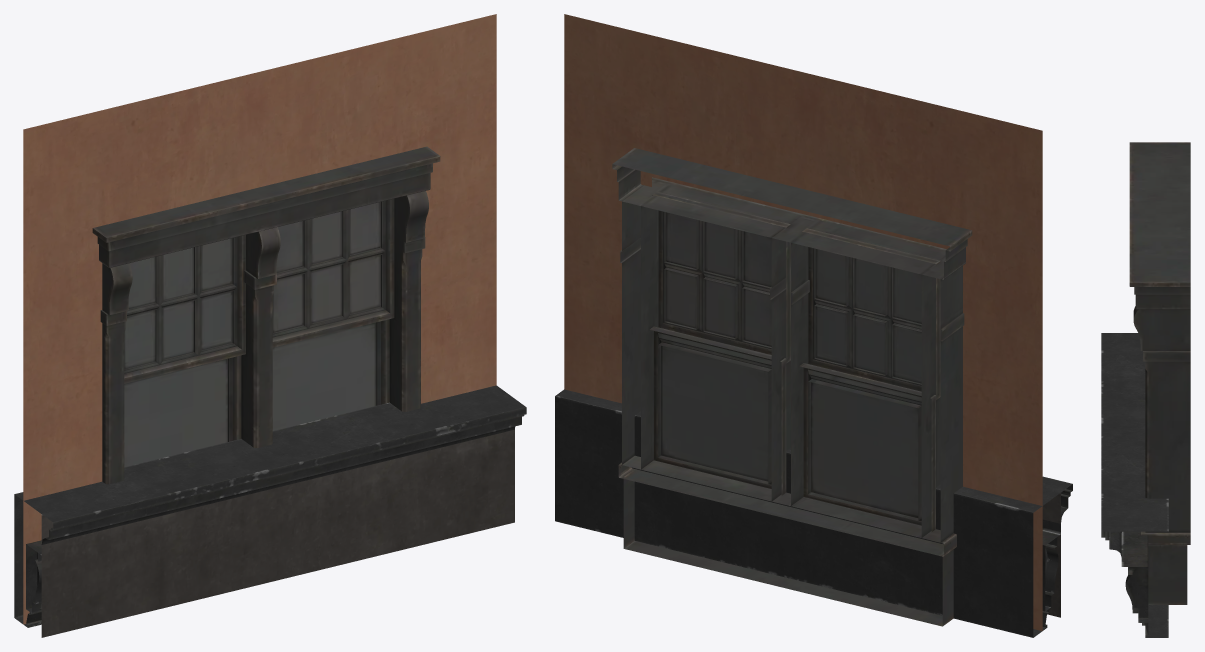
Rendered from facade.glb.
3 views of the same model, side by side, from view 1: azimuth 30°, elevation 25°; view 2: azimuth 150°, elevation 25°; view 3: azimuth 270°, elevation 25° (orthographic). The views are drawn at different scales.
Visible parts, largest first — view 1: wall_window_centered_large_01, window_centered_large_01, base_standard_01, crown_standard_standard_01; view 2: window_centered_large_01, wall_window_centered_large_01, crown_standard_standard_01, base_standard_01; view 3: window_centered_large_01, crown_standard_standard_01.
Part boxes in pixels (x1=…): wall_window_centered_large_01: x1=23, y1=14, x2=496, y2=624; window_centered_large_01: x1=92, y1=146, x2=440, y2=484; base_standard_01: x1=41, y1=429, x2=514, y2=637; crown_standard_standard_01: x1=14, y1=385, x2=526, y2=627; window_centered_large_01: x1=612, y1=148, x2=972, y2=626; wall_window_centered_large_01: x1=564, y1=14, x2=1042, y2=630; crown_standard_standard_01: x1=555, y1=389, x2=1072, y2=637; base_standard_01: x1=1042, y1=493, x2=1060, y2=617; window_centered_large_01: x1=1129, y1=142, x2=1190, y2=604; crown_standard_standard_01: x1=1101, y1=333, x2=1168, y2=637.
Bounding box in the file's own units: 3 × 3 × 0.57.
Materials: 5 (5 with a texture image).
